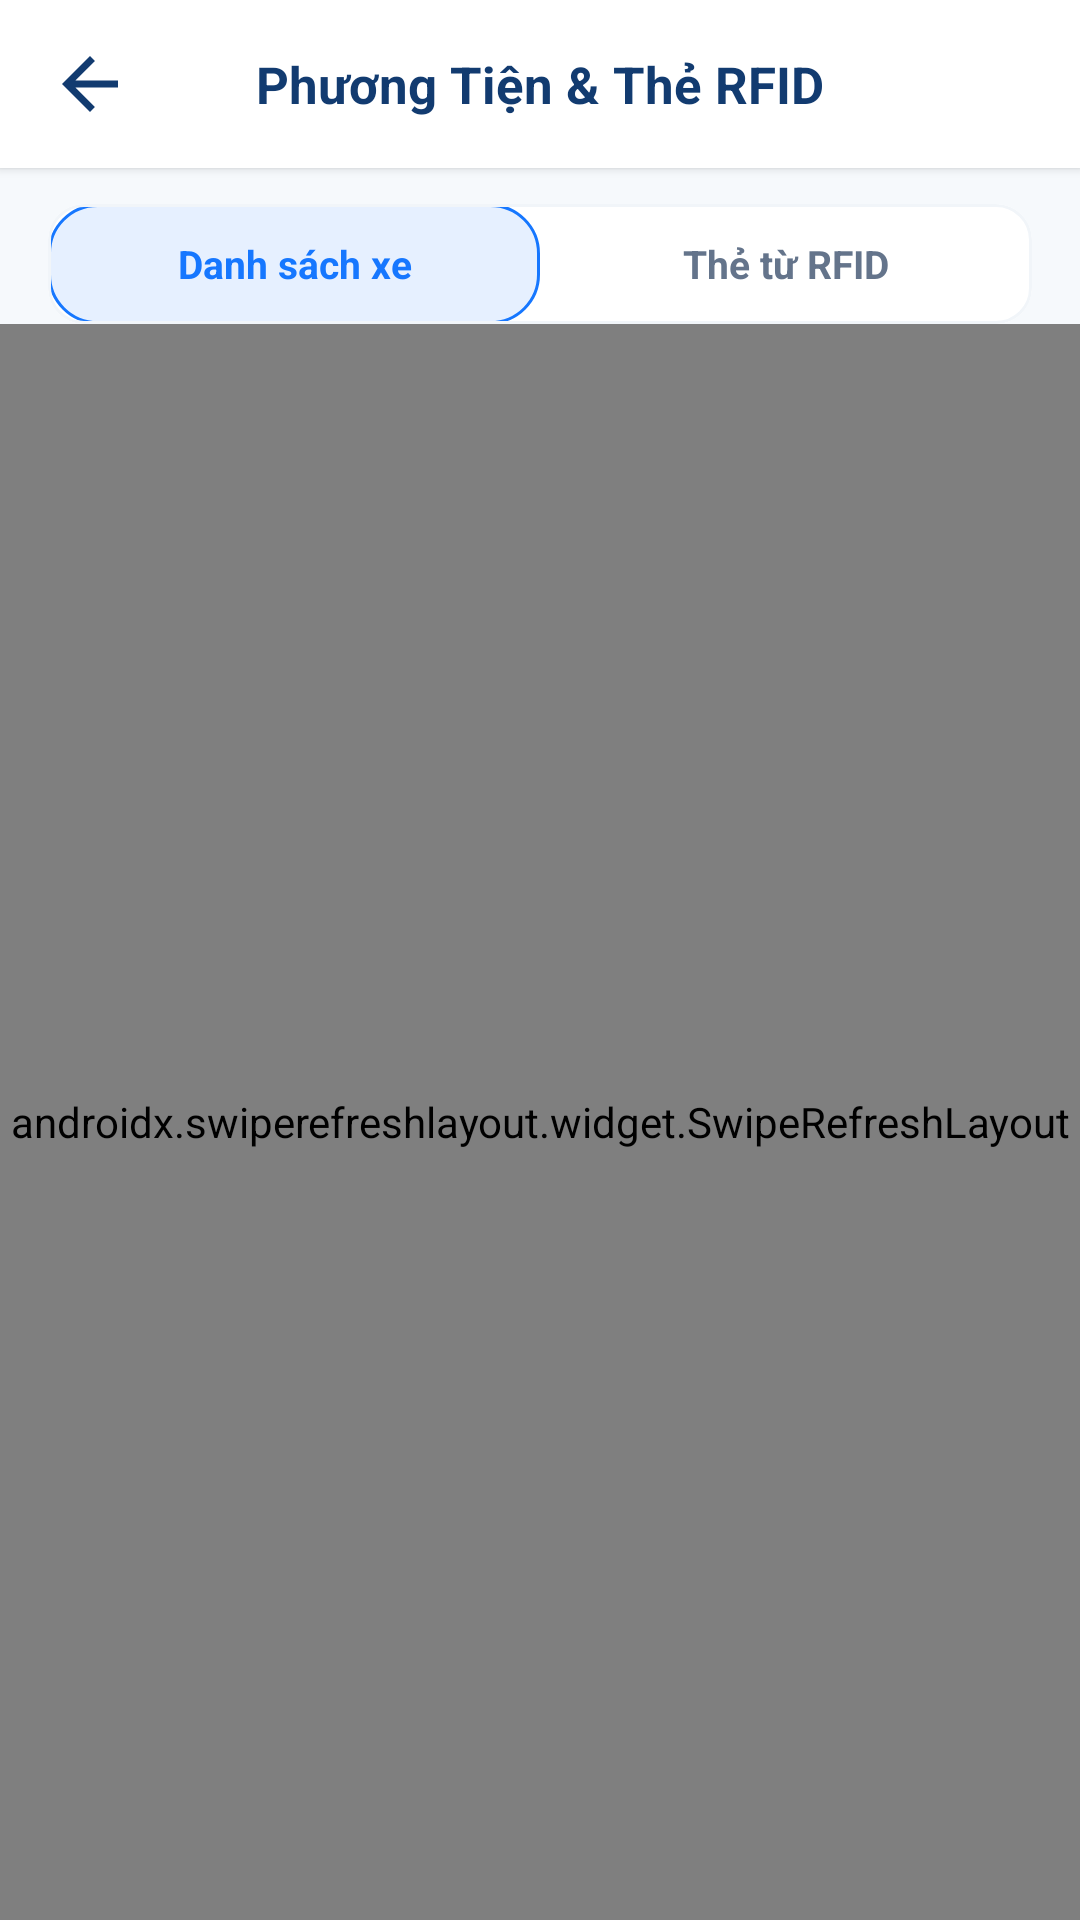

Locate icon controls on the screen. Image size 1080x1920, boxes as (x1, y1, x2, y2).
arrow back: (62, 56, 118, 112)
